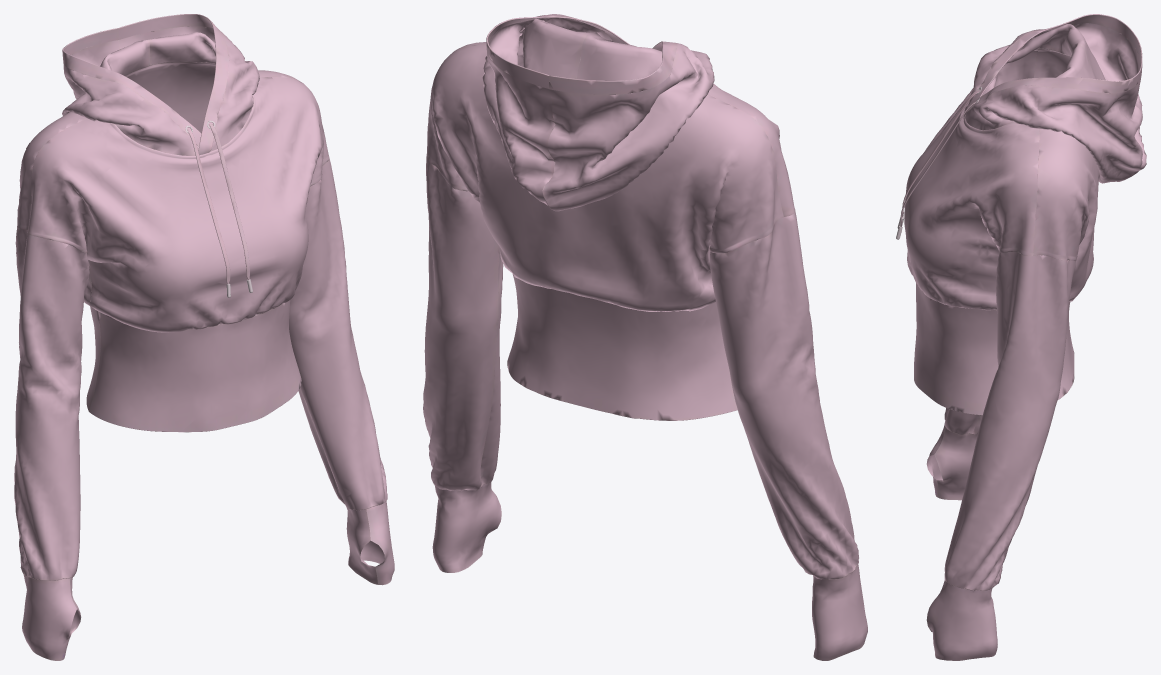
The model's file is hoodie-corto-rosa.glb.
3 renders of one model, left to right at view 1: azimuth 30°, elevation 25°; view 2: azimuth 150°, elevation 25°; view 3: azimuth 270°, elevation 25°, orthographic. The views are drawn at different scales.
Parts seen in each view (by area): view 1: Object_6; view 2: Object_6; view 3: Object_6.
Boxes of the visible parts, x1,y1,x2,y2 form: Object_6: (14, 14, 394, 660); Object_6: (423, 14, 867, 660); Object_6: (900, 14, 1146, 660).
Size of the model in its own units: 0.5034 by 0.715 by 0.3052.
Materials: 2 (1 with a texture image).
